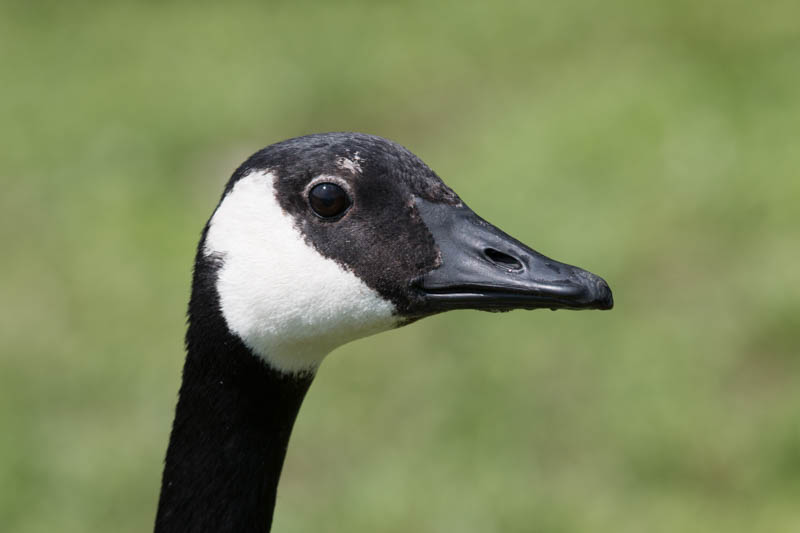goose-head: (187, 130, 613, 373)
